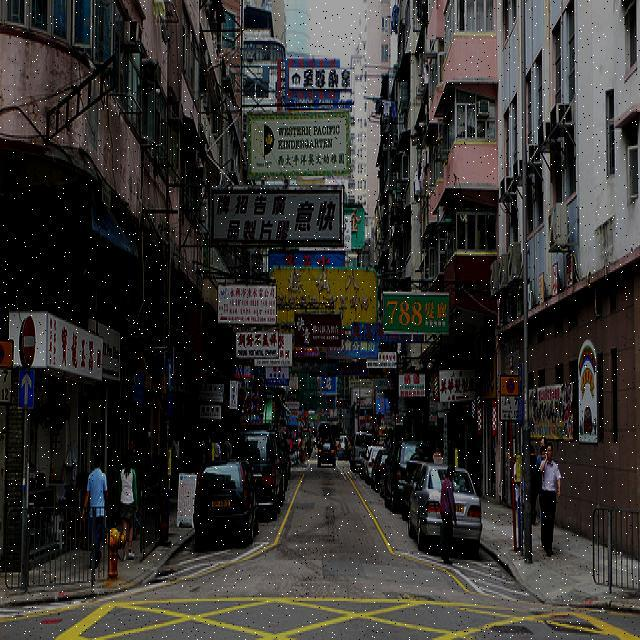fire_hydrant: (104, 525, 128, 583)
